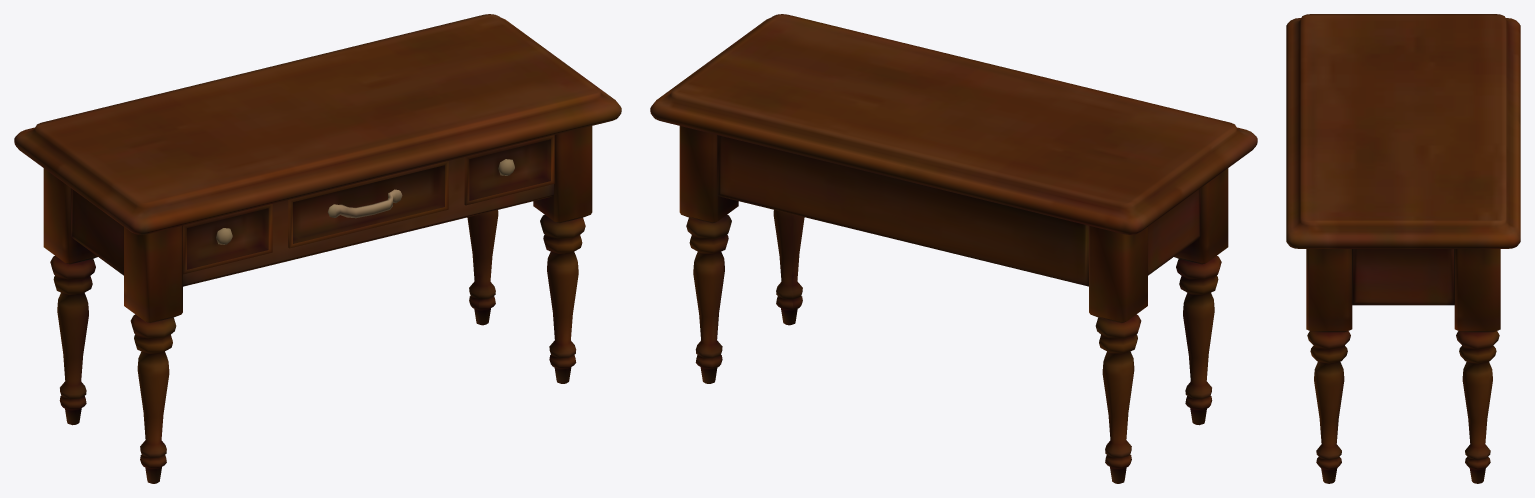
3 renders of one model, left to right at view 1: azimuth 30°, elevation 25°; view 2: azimuth 150°, elevation 25°; view 3: azimuth 270°, elevation 25°, orthographic. The views are drawn at different scales.
Bounding box in the file's own units: 15.28 × 8.77 × 6.85.
1 material, 1 textured.
